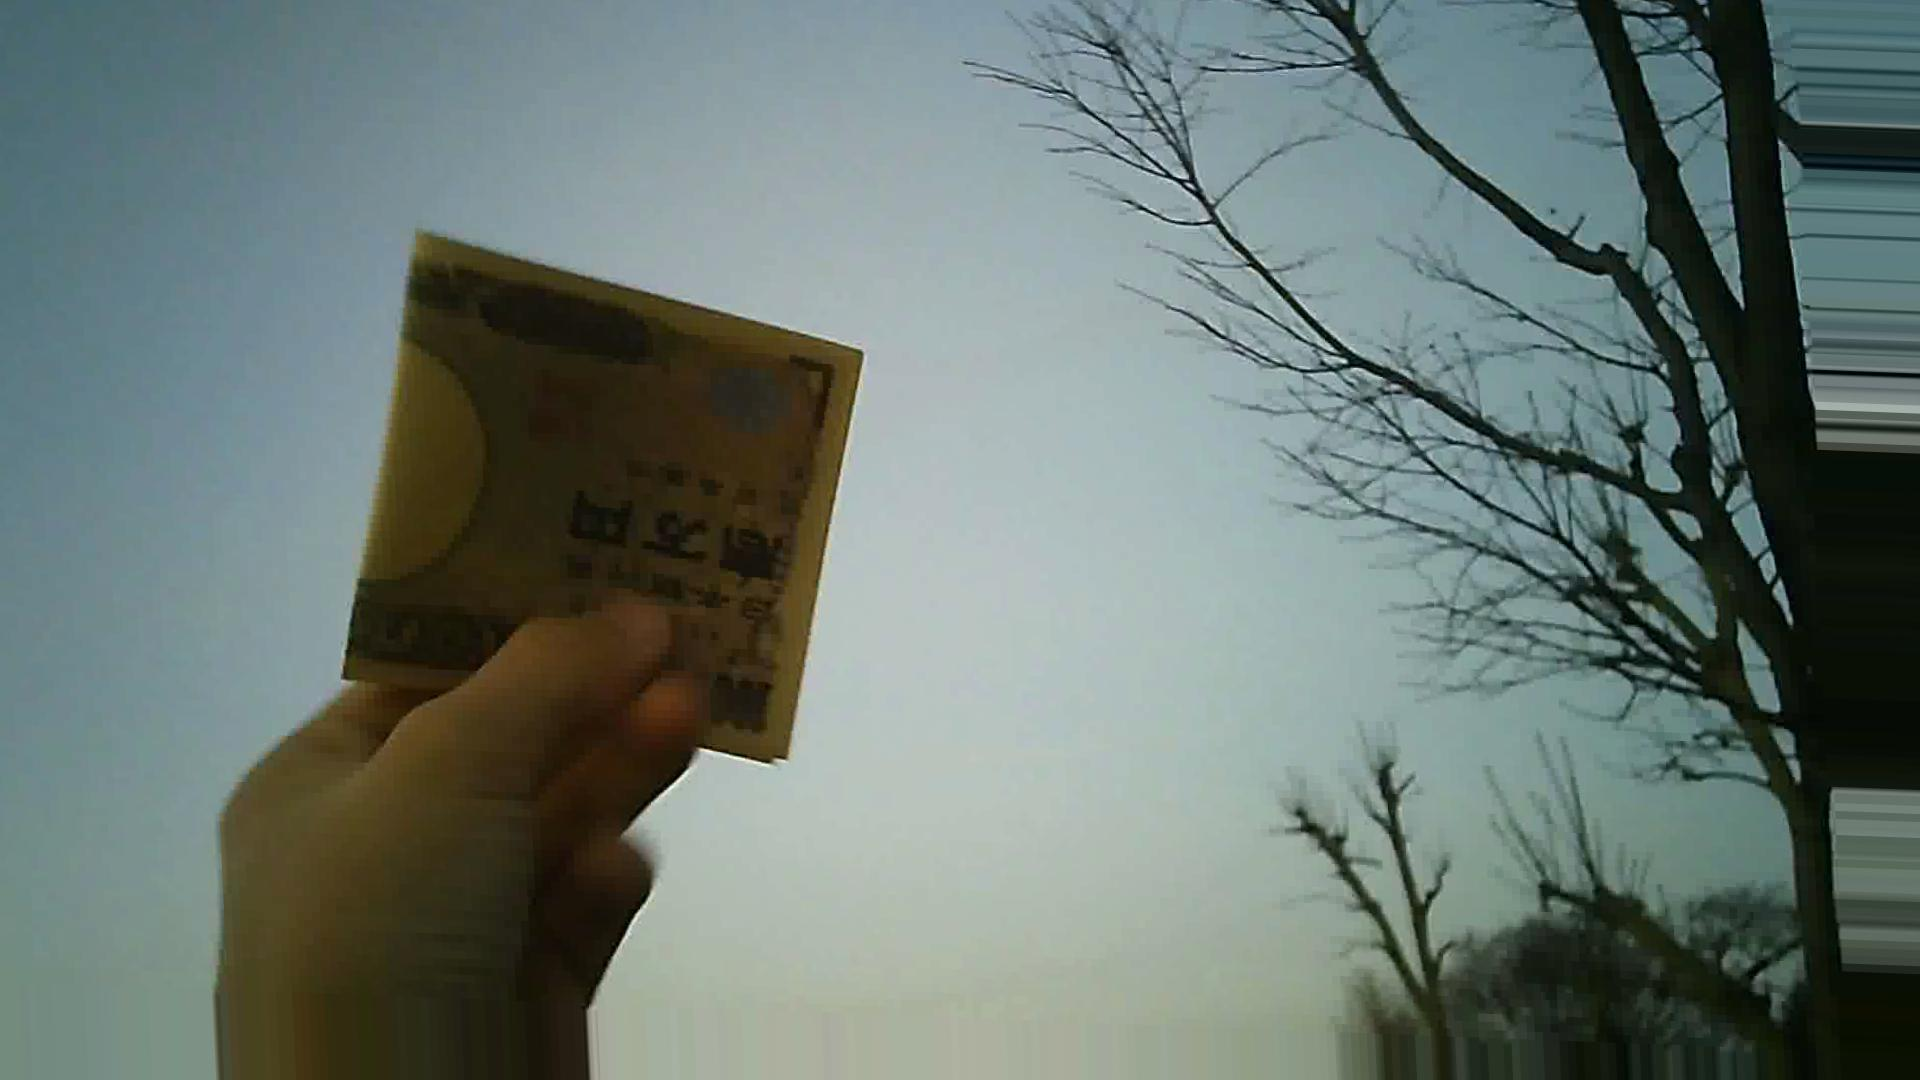10,000 Yen: (301, 208, 878, 806)
